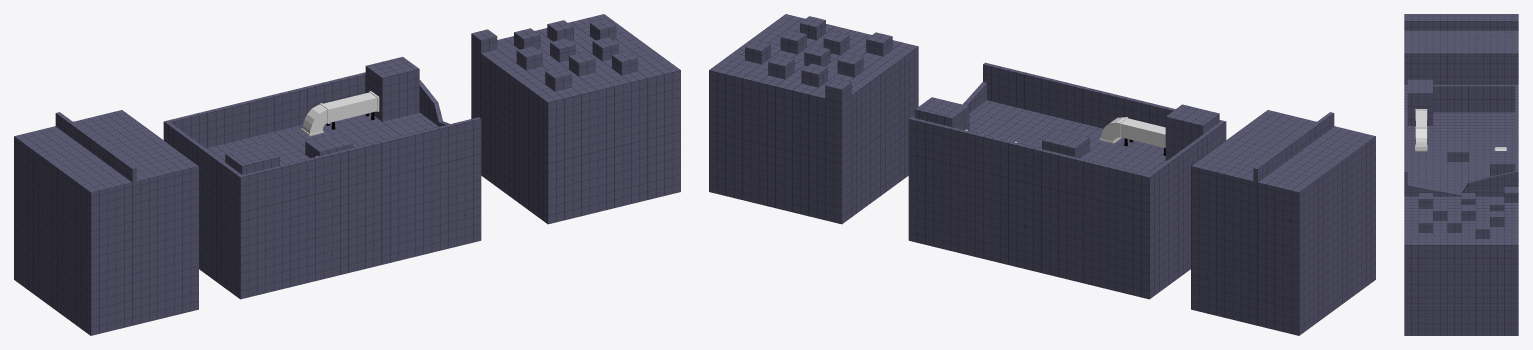
Rendered from Module_8.fbx.
The picture shows the model from 3 angles, left to right: view 1: azimuth 30°, elevation 25°; view 2: azimuth 150°, elevation 25°; view 3: azimuth 270°, elevation 25°; orthographic projection. The views are drawn at different scales.
Parts seen in each view (by area): view 1: Module_8, vent__1_; view 2: Module_8, vent; view 3: Module_8, vent.
Boxes of the visible parts, left/top/right/bottom form: Module_8: left=14, top=14, right=680, bottom=335; vent__1_: left=301, top=91, right=379, bottom=136; Module_8: left=709, top=14, right=1375, bottom=335; vent: left=1099, top=117, right=1165, bottom=155; Module_8: left=1404, top=14, right=1518, bottom=335; vent: left=1415, top=109, right=1427, bottom=151.
Bounding box in the file's own units: 7100 × 1800 × 1600.
3 materials, 1 textured.
